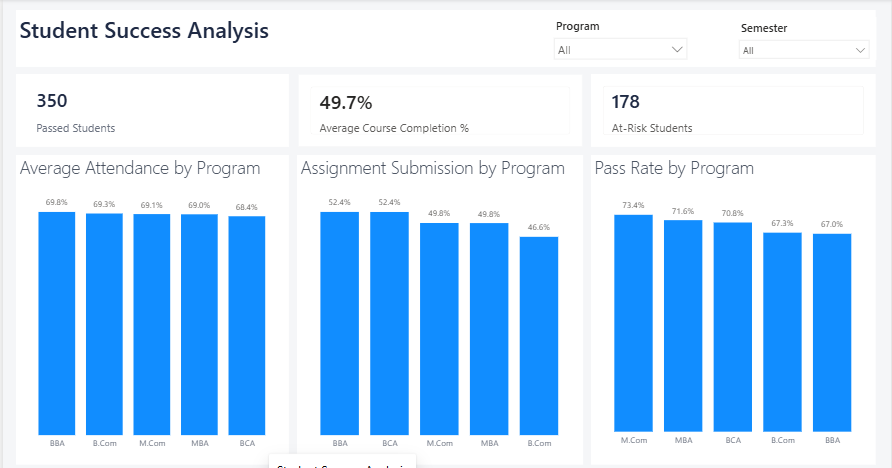

Layout of this report page (visuals, bound fields, positions):
{"tool":"powerbi","page":{"name":"Student Success Analysis","canvas":[1280,720],"ordinal":1},"visuals":[{"type":"textbox","box":[18.7,15.8,1238.4,82.1],"z":0},{"type":"clusteredColumnChart","title":"Assignment Submission by Program","fields":{"Y":["Assignment_Master.Assignment Submission Rate %"],"Category":["Assignment_Master.Program"]},"box":[423.4,224.6,411.8,446.4],"z":1000},{"type":"cardVisual","fields":{"Data":["Assignment_Master.Passed Students"]},"box":[18.7,108,393.1,105.1],"z":2000},{"type":"clusteredColumnChart","title":"Average Attendance by Program","fields":{"Y":["Attendance_Master.Average Attendance %"],"Category":["Attendance_Master.Program"]},"box":[18.7,224.6,393.1,446.4],"z":3000},{"type":"cardVisual","fields":{"Data":["Student_Master.Average Course Completion %"]},"box":[424.8,108,410.4,105.1],"z":4000},{"type":"clusteredColumnChart","title":"Pass Rate by Program","fields":{"Category":["Result_Master_Data.Program"],"Y":["Assignment_Master.Pass Rate %"]},"box":[846.7,224.6,410.4,446.4],"z":5000},{"type":"cardVisual","fields":{"Data":["Student_Master.At-Risk Students"]},"box":[846.7,108,410.4,105.1],"z":6000},{"type":"slicer","fields":{"Values":["Student_Master.Program"]},"box":[783.4,23,211.7,64.8],"z":7000},{"type":"slicer","fields":{"Values":["Student_Master.Semester"]},"box":[1049.8,25.9,208,62],"z":8000}]}

Visuals, with their boxes on the page's 1280x720 design canvas (x1, y1, x2, y2). These are canvas units, not pixel positions in the 892x468 screenshot, which may show the page scaled, cropped or inside an application window:
textbox: select_region(19, 16, 1257, 98)
"Assignment Submission by Program" clusteredColumnChart: select_region(423, 225, 835, 671)
cardVisual - Assignment_Master.Passed Students: select_region(19, 108, 412, 213)
"Average Attendance by Program" clusteredColumnChart: select_region(19, 225, 412, 671)
cardVisual - Student_Master.Average Course Completion %: select_region(425, 108, 835, 213)
"Pass Rate by Program" clusteredColumnChart: select_region(847, 225, 1257, 671)
cardVisual - Student_Master.At-Risk Students: select_region(847, 108, 1257, 213)
slicer - Student_Master.Program: select_region(783, 23, 995, 88)
slicer - Student_Master.Semester: select_region(1050, 26, 1258, 88)
